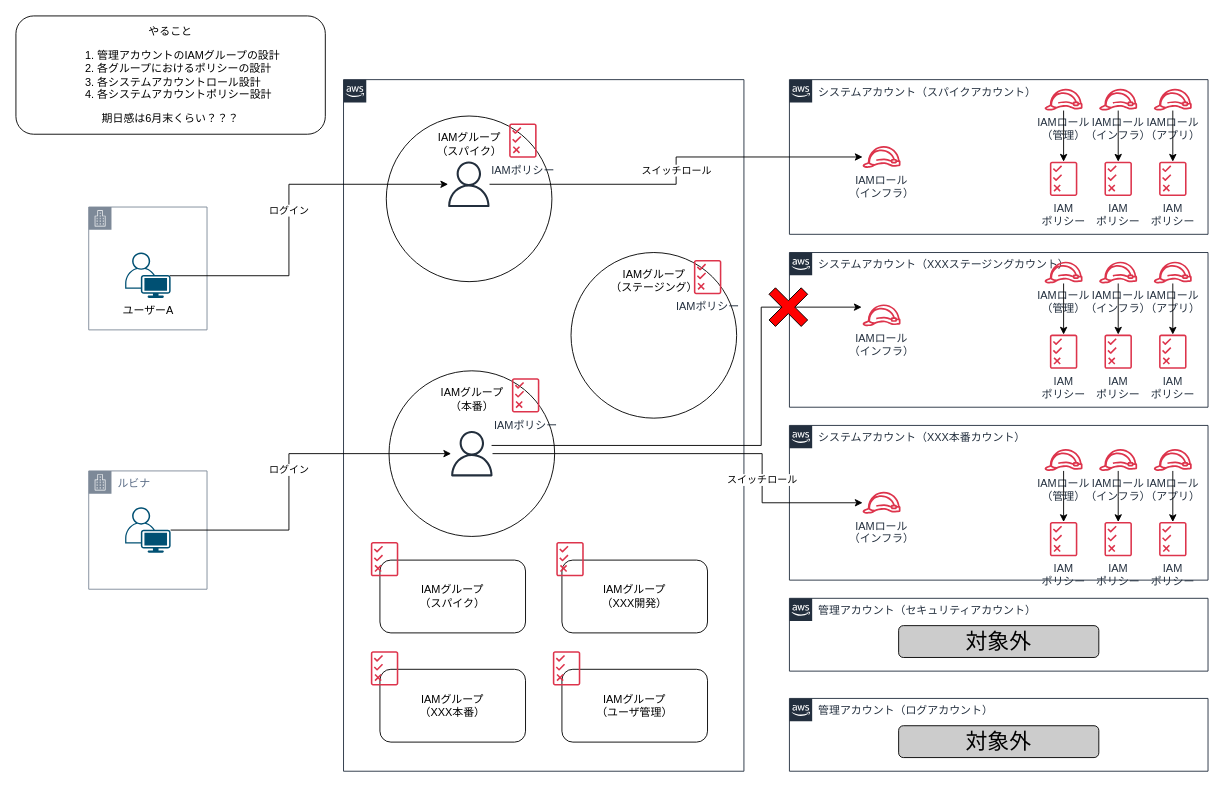
Some shapes in this 1224 by 787 pixel diagram are drawn without their labels. The shapes that lost their labels are listed below. From the top down, each one's box as (x1, y1, x2, y2) in pixels, then its label:
(446, 161, 491, 207): IAMユーザA
(88, 206, 207, 330): USMH
(343, 79, 744, 771): 管理アカウント（ユーザ管理）
(449, 430, 494, 476): IAMユーザB
(125, 507, 170, 552): ユーザーB
